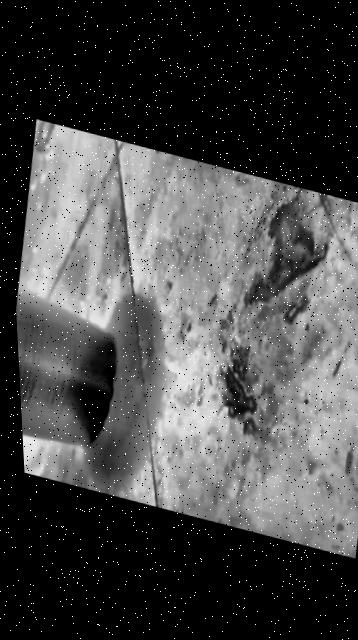pot: (14, 273, 131, 471)
